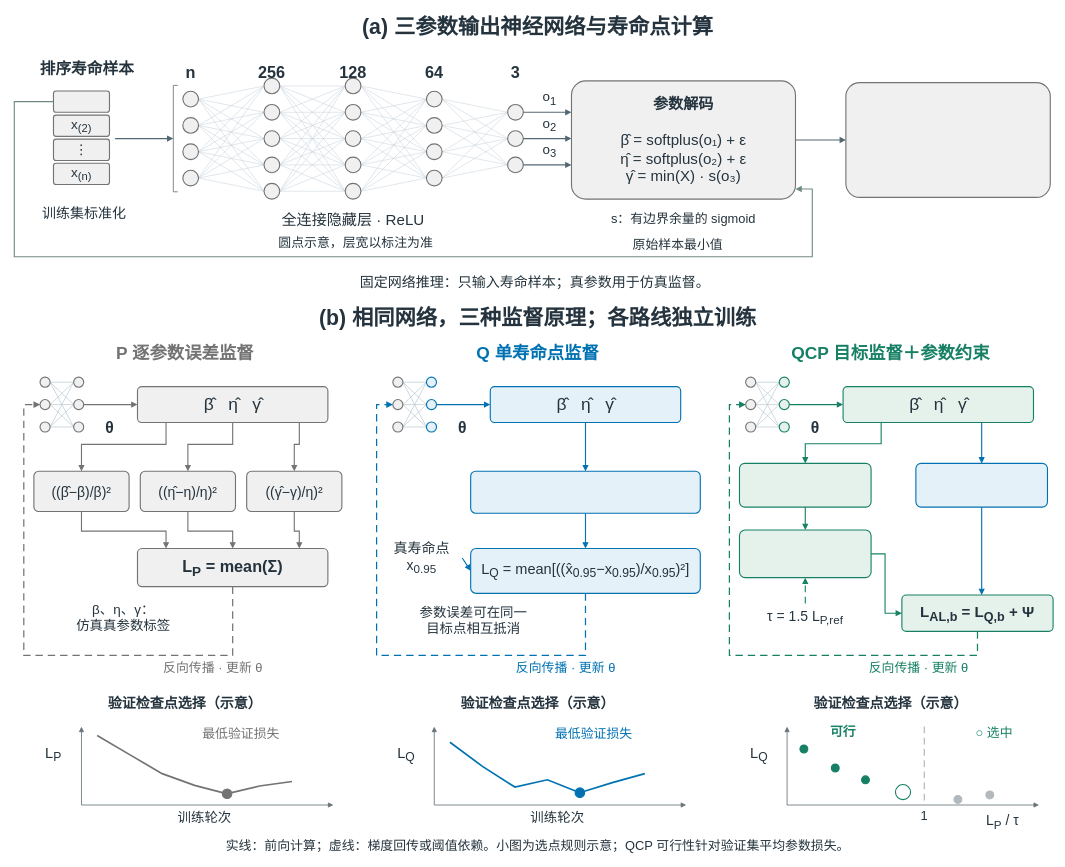
This 1065x867 diagram has some shape labels left out. The shapes that lost their labels are listed below. From the top down, each one's centre as x and y in pixels, then its label:
At point 81,101: "x (1)".
At point 948,140: "Weibull x̂ R = γ̂ + η̂(−ln R) 1/β̂ R = 0.90, 0.95, 0.99".
At point 585,492: "x̂ 0.95 = γ̂ + η̂(−ln 0.95) 1/β̂".
At point 805,485: "L P,b 参数误差".
At point 981,485: "L Q,b 经 x̂ 0.95 计算".
At point 805,553: "约束惩罚 Ψ g b = L P,b − τ".
